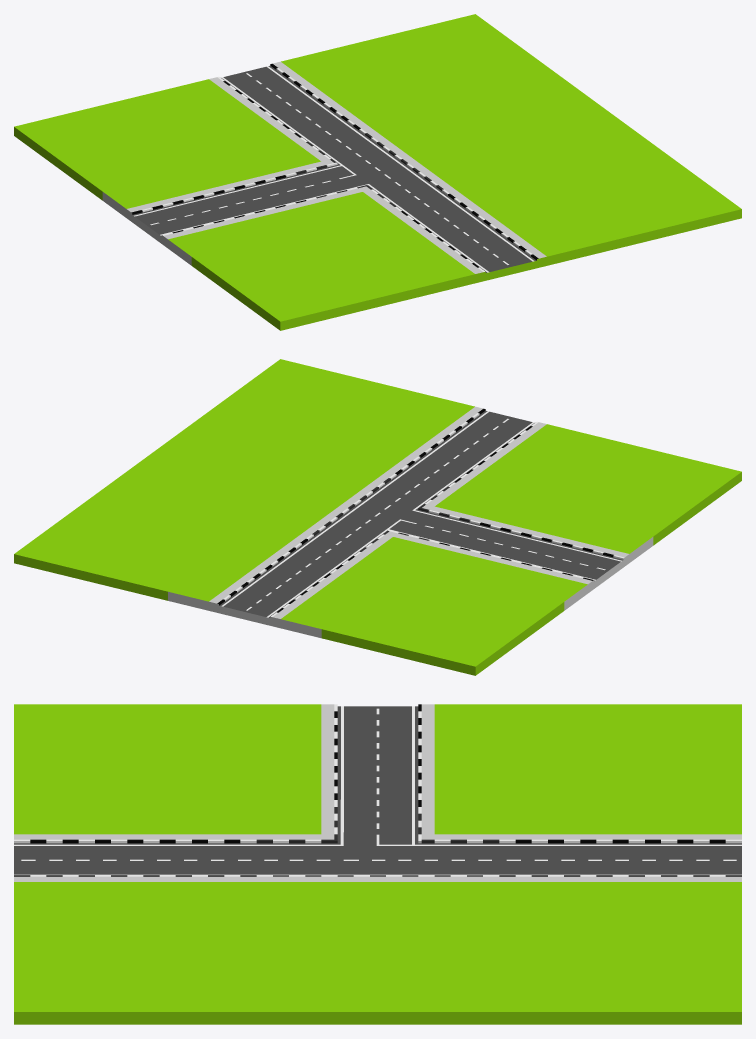
File: Level 1 road combined.FBX
3 views of the same model, one above another, from view 1: azimuth 30°, elevation 25°; view 2: azimuth 150°, elevation 25°; view 3: azimuth 270°, elevation 25° (orthographic). The views are drawn at different scales.
Visible parts, largest first — view 1: single t-junction; view 2: single t-junction; view 3: single t-junction.
Boxes of the visible parts, <box> form: single t-junction: <box>14,14,741,330</box>; single t-junction: <box>14,359,741,675</box>; single t-junction: <box>14,704,741,1024</box>.
Size of the model in its own units: 2480 by 47.25 by 2480.
